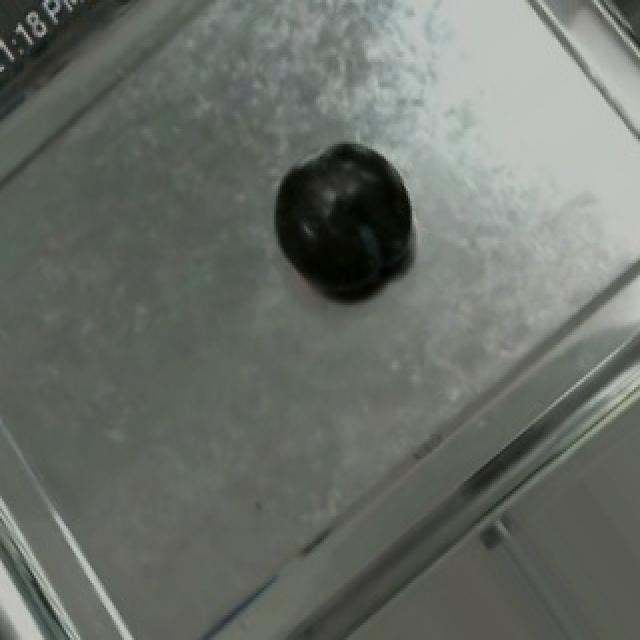Fruit: (252, 124, 436, 310)
